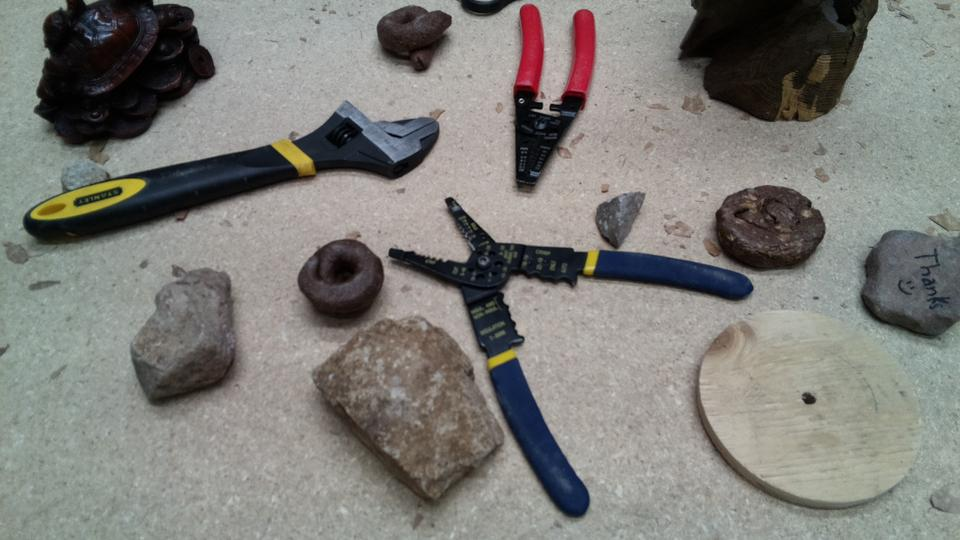poop: (714, 180, 830, 273), (296, 235, 388, 325), (371, 3, 454, 74)
